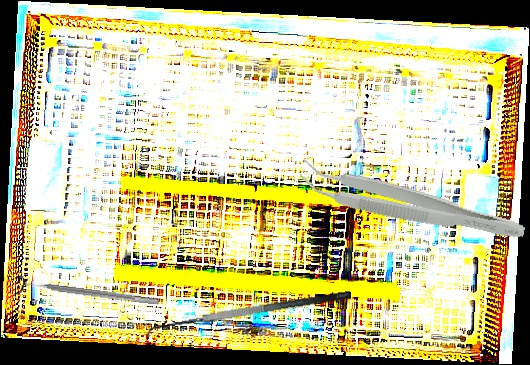Fixation Ring: (14, 273, 161, 313)
Spatula Surgical: (145, 288, 354, 346)
Tissue Forceps: (295, 156, 530, 248)
